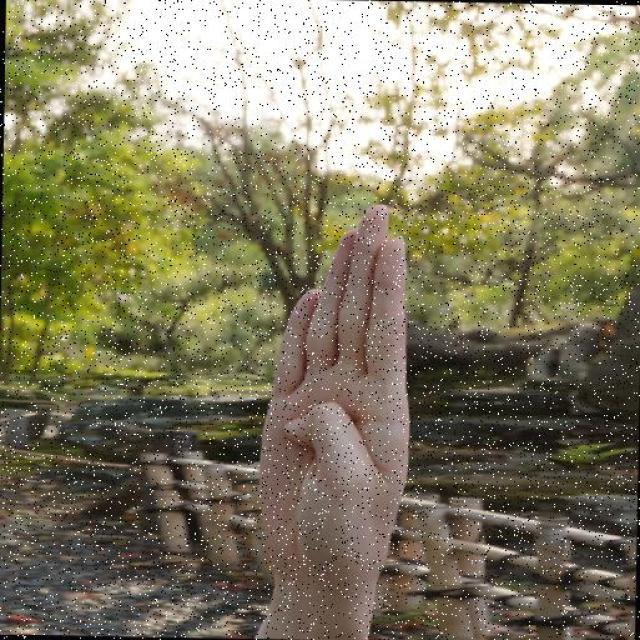B: (250, 200, 420, 602)
